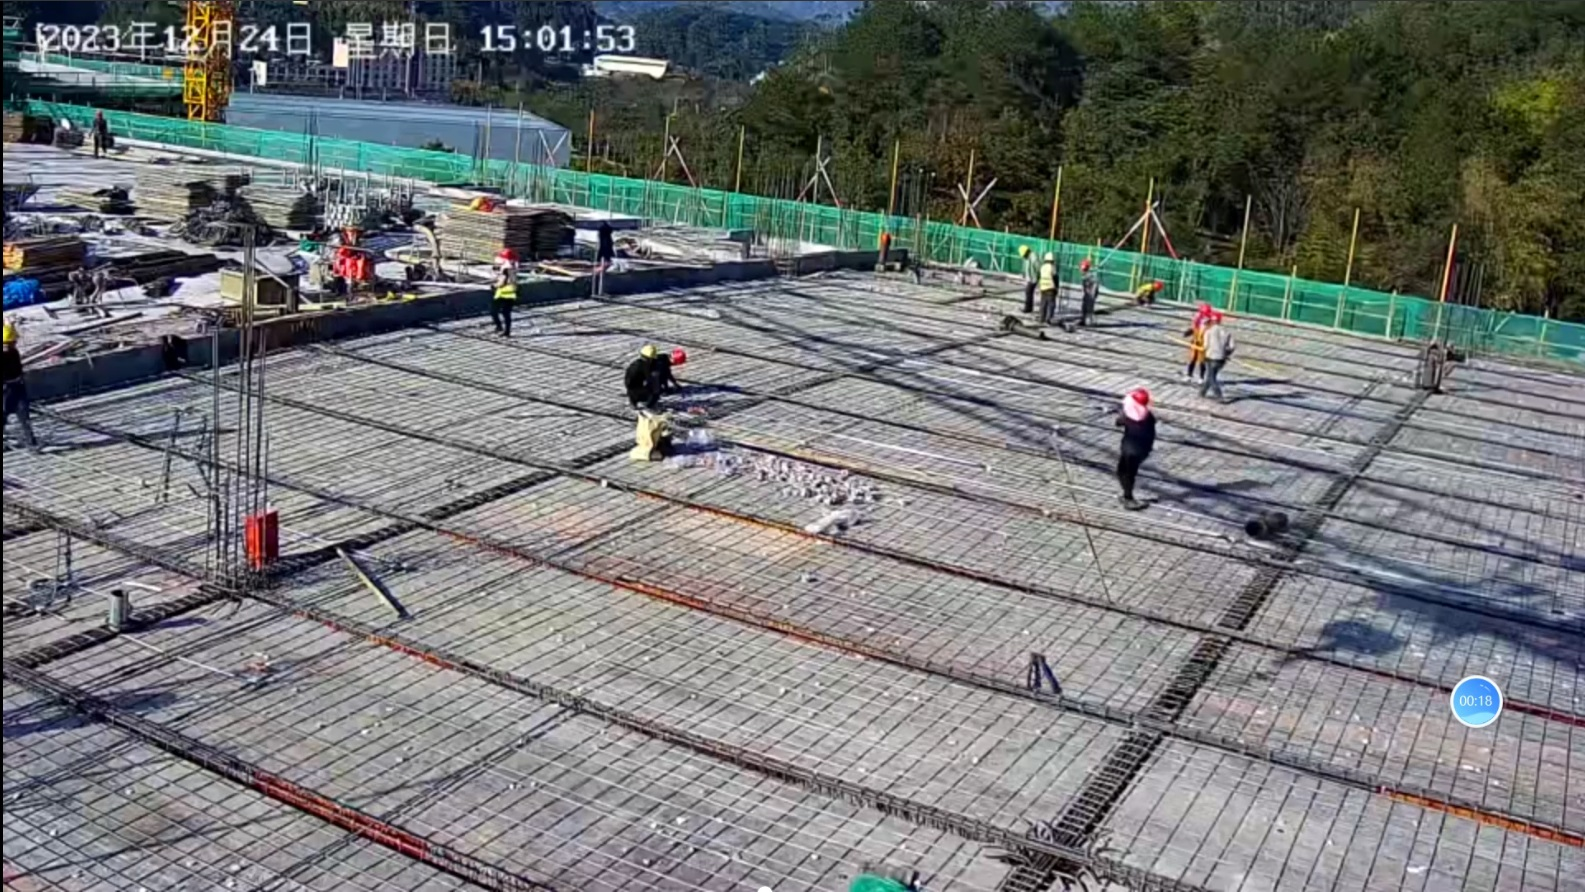person: (1, 319, 41, 456), (1111, 387, 1156, 509), (1197, 313, 1237, 407), (648, 345, 687, 418), (1180, 296, 1212, 383), (623, 342, 657, 415), (490, 248, 518, 336), (1072, 256, 1102, 327), (1015, 243, 1041, 312), (1035, 250, 1059, 321), (1131, 277, 1164, 310)
